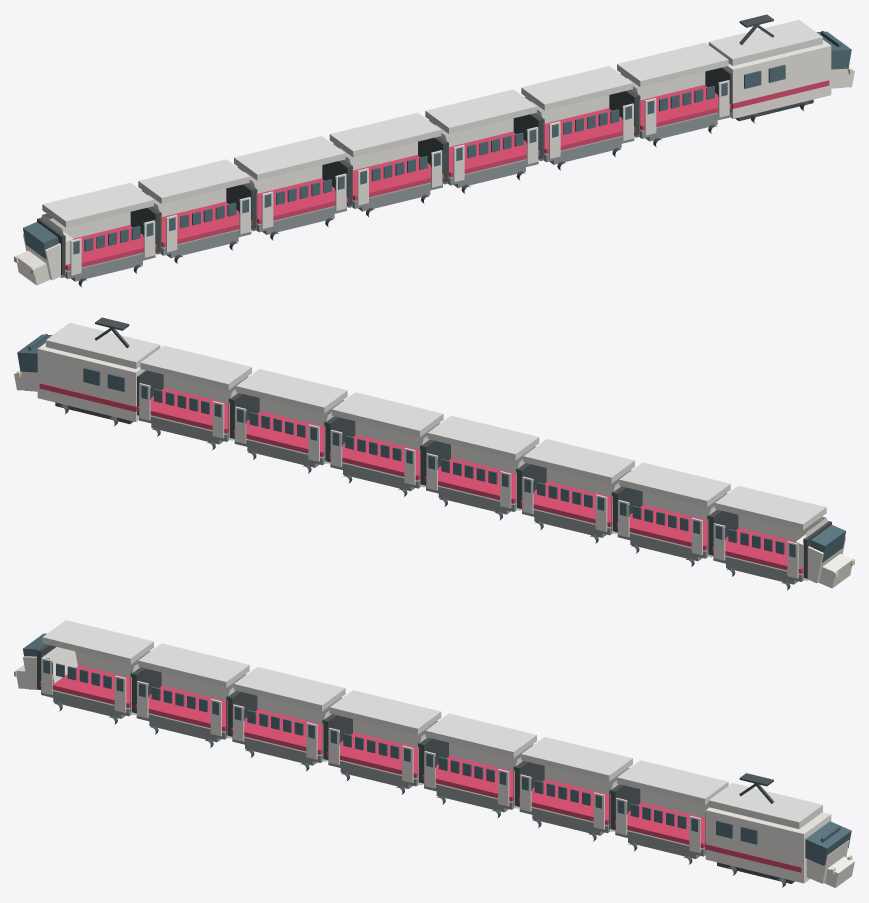
Rendered from ice3.glb.
3 views of the same model, one above another, from view 1: azimuth 30°, elevation 25°; view 2: azimuth 150°, elevation 25°; view 3: azimuth 330°, elevation 25° (orthographic).
Parts seen in each view (by area): view 1: body_shell, roof, ice3_car_4_roof, ice3_car_7_roof, ice3_car_1_roof, ice3_car_2_roof, ice3_car_5_roof, ice3_car_6_roof, ice3_car_3_roof, ice3_car_1_identity_stripe, ice3_car_3_identity_stripe, ice3_car_5_identity_stripe (+29 smaller); view 2: body_shell, roof, ice3_car_4_roof, ice3_car_7_roof, ice3_car_1_roof, ice3_car_2_roof, ice3_car_5_roof, ice3_car_6_roof, ice3_car_3_roof, ice3_car_1_identity_stripe, ice3_car_3_identity_stripe, ice3_car_5_identity_stripe (+29 smaller); view 3: body_shell, roof, ice3_car_4_roof, ice3_car_2_roof, ice3_car_5_roof, ice3_car_3_roof, ice3_car_6_roof, ice3_car_7_roof, ice3_car_1_roof, ice3_car_5_identity_stripe, ice3_car_1_identity_stripe, ice3_car_2_identity_stripe (+29 smaller).
Part boxes in pixels (x1,y1,x2,y2): body_shell: (723, 40, 831, 118); roof: (708, 20, 822, 65); ice3_car_4_roof: (329, 112, 441, 157); ice3_car_7_roof: (42, 182, 153, 227); ice3_car_1_roof: (617, 42, 728, 87); ice3_car_2_roof: (521, 66, 632, 110); ice3_car_5_roof: (234, 136, 345, 180); ice3_car_6_roof: (138, 159, 249, 203); ice3_car_3_roof: (425, 89, 536, 133); ice3_car_1_identity_stripe: (640, 85, 731, 130); ice3_car_3_identity_stripe: (449, 131, 539, 177); ice3_car_5_identity_stripe: (257, 178, 348, 224); body_shell: (37, 343, 145, 421); roof: (46, 323, 160, 368); ice3_car_4_roof: (427, 415, 539, 460); ice3_car_7_roof: (715, 485, 826, 530); ice3_car_1_roof: (140, 345, 251, 390); ice3_car_2_roof: (236, 369, 347, 413); ice3_car_5_roof: (523, 439, 634, 483); ice3_car_6_roof: (619, 462, 730, 506); ice3_car_3_roof: (332, 392, 443, 436); ice3_car_1_identity_stripe: (137, 388, 228, 433); ice3_car_3_identity_stripe: (329, 434, 419, 480); ice3_car_5_identity_stripe: (520, 481, 611, 527); body_shell: (705, 807, 831, 883); roof: (708, 783, 822, 828); ice3_car_4_roof: (329, 690, 441, 734); ice3_car_2_roof: (521, 737, 632, 781); ice3_car_5_roof: (234, 667, 345, 711); ice3_car_3_roof: (425, 713, 536, 758); ice3_car_6_roof: (138, 643, 249, 687); ice3_car_7_roof: (42, 620, 153, 664); ice3_car_1_roof: (617, 760, 728, 804); ice3_car_5_identity_stripe: (231, 709, 322, 754); ice3_car_1_identity_stripe: (614, 802, 705, 848); ice3_car_2_identity_stripe: (518, 779, 609, 824).
Size of the model in its own units: 12.55 by 1.32 by 0.791.
